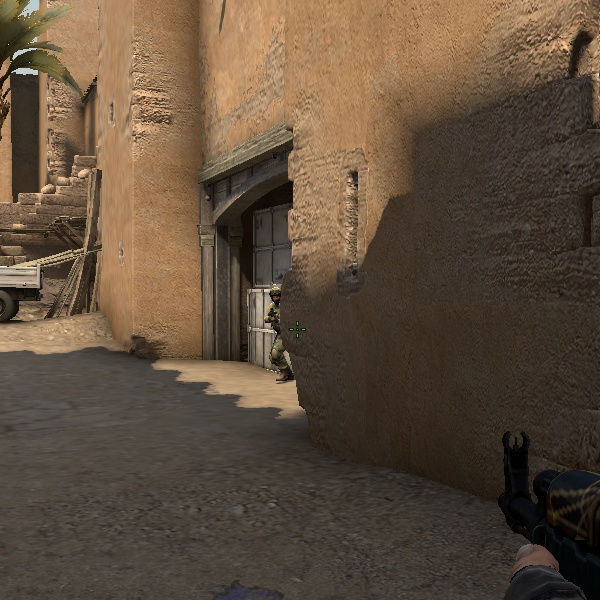ct_body: (266, 287, 297, 384)
ct_head: (269, 287, 282, 307)
